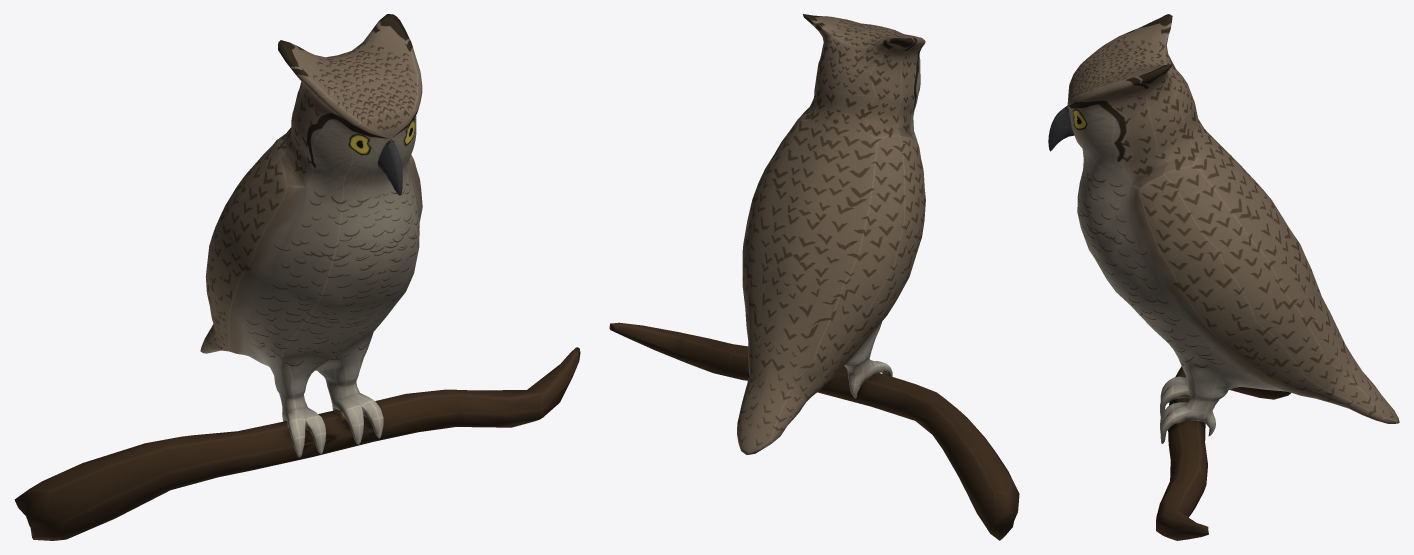
File: great_horned_owl.glb
3 renders of one model, left to right at view 1: azimuth 30°, elevation 25°; view 2: azimuth 150°, elevation 25°; view 3: azimuth 270°, elevation 25°, orthographic. The views are drawn at different scales.
Parts seen in each view (by area): view 1: GreatHornedOwl_mesh; view 2: GreatHornedOwl_mesh; view 3: GreatHornedOwl_mesh.
Part boxes in pixels (bbox=[...]): GreatHornedOwl_mesh: bbox=[14, 14, 580, 540]; GreatHornedOwl_mesh: bbox=[609, 14, 1019, 540]; GreatHornedOwl_mesh: bbox=[1048, 14, 1399, 540].
Bounding box in the file's own units: 9.7 × 8.95 × 6.15.
1 material, 1 textured.
